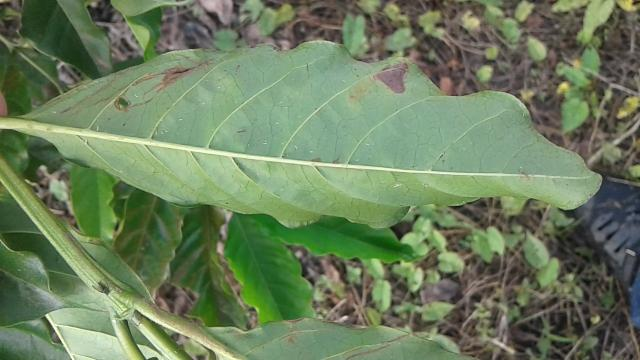red_spider_mite: (13, 44, 602, 226)
